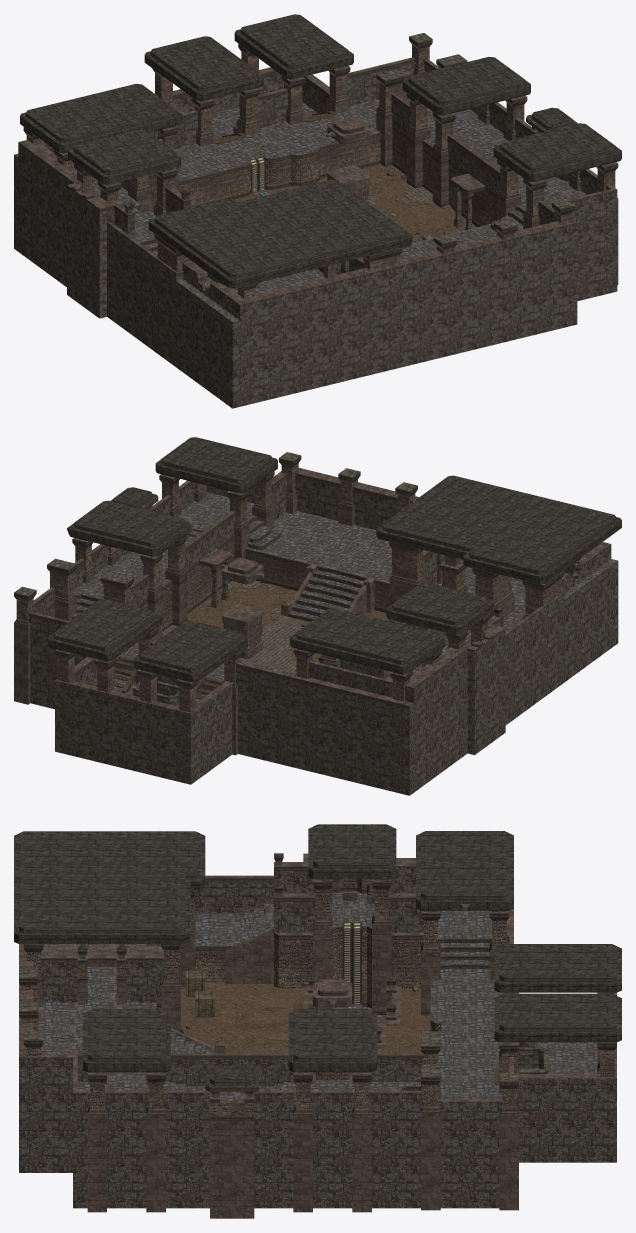
Rendered from douze.obj.
3 renders of one model, top to bottom at view 1: azimuth 30°, elevation 25°; view 2: azimuth 150°, elevation 25°; view 3: azimuth 270°, elevation 25°, orthographic. The views are drawn at different scales.
Parts seen in each view (by area): view 1: slot46, slot48, slot55, slot189, slot293, slot228, slot227, slot296, slot295, slot294, slot297, slot121 (+1 smaller); view 2: slot46, slot48, slot55, slot189, slot228, slot293, slot227, slot295, slot238, slot296, slot294, slot121 (+3 smaller); view 3: slot46, slot48, slot55, slot293, slot189, slot228, slot294, slot227, slot295, slot297, slot121, slot162 (+2 smaller).
Part boxes in pixels (bbox=[...]): slot46: bbox=[14, 63, 617, 408]; slot48: bbox=[20, 14, 621, 288]; slot55: bbox=[14, 41, 618, 304]; slot189: bbox=[26, 45, 615, 298]; slot293: bbox=[94, 99, 584, 294]; slot228: bbox=[25, 30, 615, 278]; slot227: bbox=[23, 36, 618, 287]; slot296: bbox=[178, 136, 380, 205]; slot295: bbox=[95, 99, 586, 286]; slot294: bbox=[246, 176, 450, 241]; slot297: bbox=[234, 164, 476, 237]; slot121: bbox=[24, 33, 617, 249]; slot46: bbox=[28, 476, 618, 795]; slot48: bbox=[47, 437, 621, 682]; slot55: bbox=[14, 460, 610, 755]; slot189: bbox=[16, 463, 561, 712]; slot228: bbox=[28, 458, 616, 709]; slot293: bbox=[72, 492, 525, 706]; slot227: bbox=[14, 456, 564, 687]; slot295: bbox=[74, 499, 525, 672]; slot238: bbox=[163, 580, 309, 673]; slot296: bbox=[223, 552, 470, 650]; slot294: bbox=[187, 582, 389, 662]; slot121: bbox=[14, 452, 563, 683]; slot46: bbox=[19, 866, 616, 1208]; slot48: bbox=[14, 824, 621, 1087]; slot55: bbox=[19, 853, 616, 1218]; slot293: bbox=[38, 891, 599, 1099]; slot189: bbox=[21, 879, 614, 1116]; slot228: bbox=[19, 857, 616, 1093]; slot294: bbox=[180, 982, 430, 1053]; slot227: bbox=[19, 881, 616, 1120]; slot295: bbox=[41, 910, 587, 1100]; slot297: bbox=[180, 1004, 422, 1053]; slot121: bbox=[19, 879, 616, 1081]; slot162: bbox=[342, 922, 440, 1031].
Bounding box in the file's own units: 468 × 144 × 496.
Materials: 30 (30 with a texture image).
